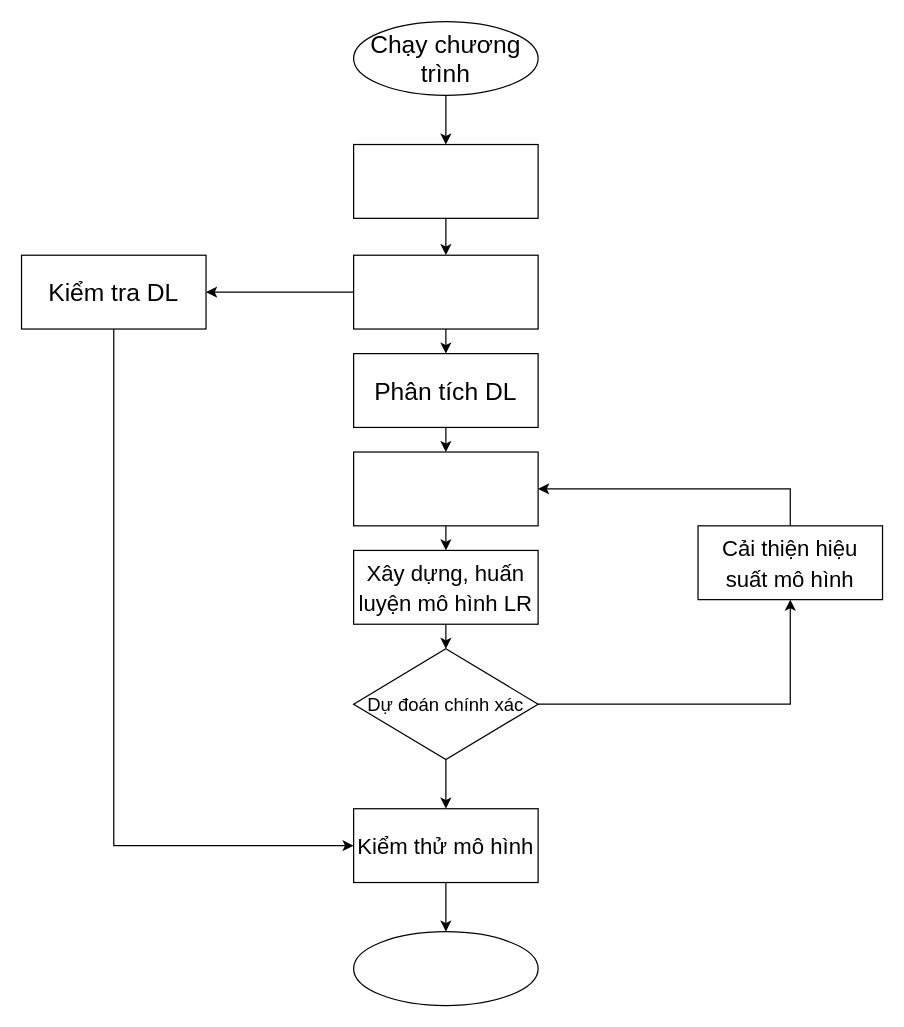
Image size: 904x1027. Some labels were removed from this diagram. Here are the shapes that lost their labels. From the top down, the centre of each, then its label:
At [445,180]: "Thu Thập dữ liệu".
At [445,291]: "Tiền xử lý DL".
At [445,488]: "Huấn luyện DL, Xác thực DL".
At [445,968]: "Kết thúc".
